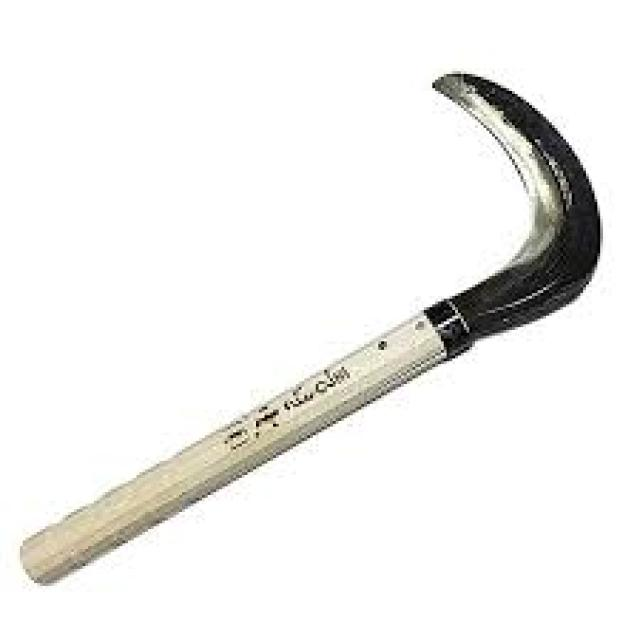sickle: (39, 49, 602, 579)
